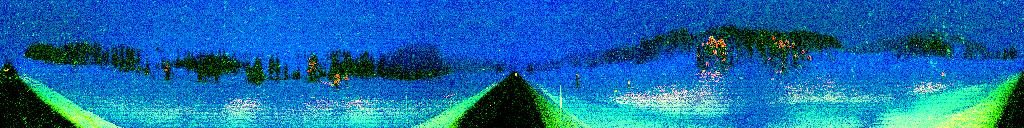pole: (405, 92, 409, 128), (559, 82, 563, 112)
